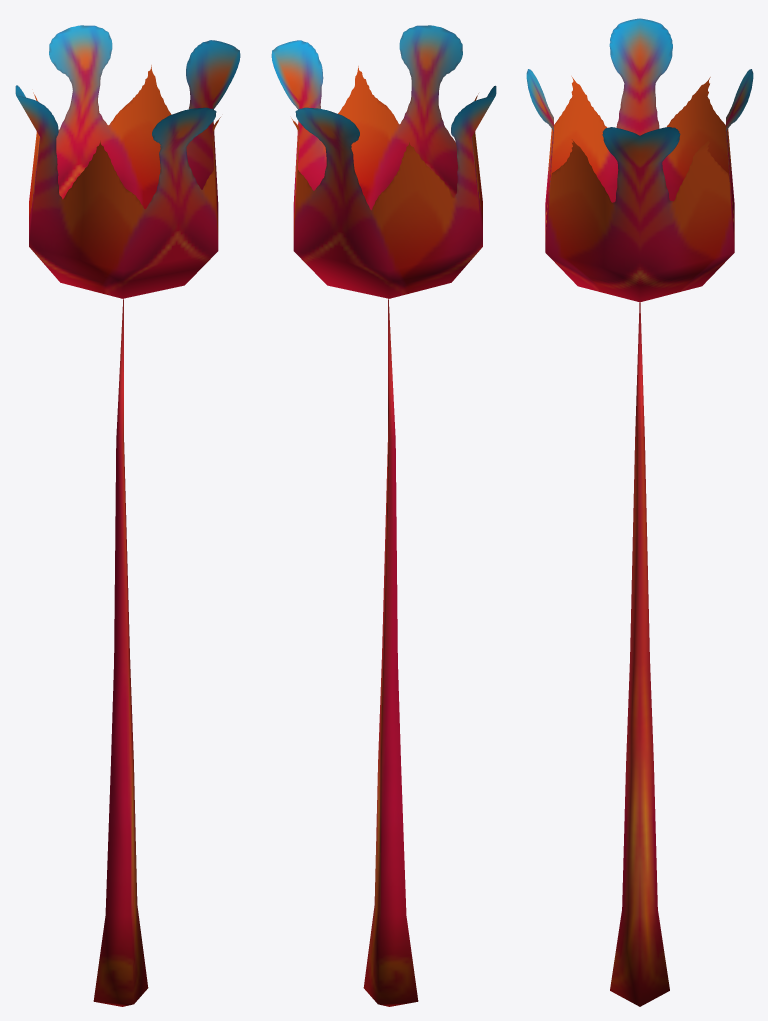
The model's file is Red_Flower_03d.FBX.
3 views of the same model, side by side, from view 1: azimuth 30°, elevation 25°; view 2: azimuth 150°, elevation 25°; view 3: azimuth 270°, elevation 25° (orthographic).
Parts seen in each view (by area): view 1: Red_Flower_03d; view 2: Red_Flower_03d; view 3: Red_Flower_03d.
Boxes of the visible parts, <box> form: Red_Flower_03d: <box>15,25,240,1006</box>; Red_Flower_03d: <box>271,25,496,1006</box>; Red_Flower_03d: <box>526,18,753,1006</box>.
Size of the model in its own units: 25.77 by 102 by 22.33.
